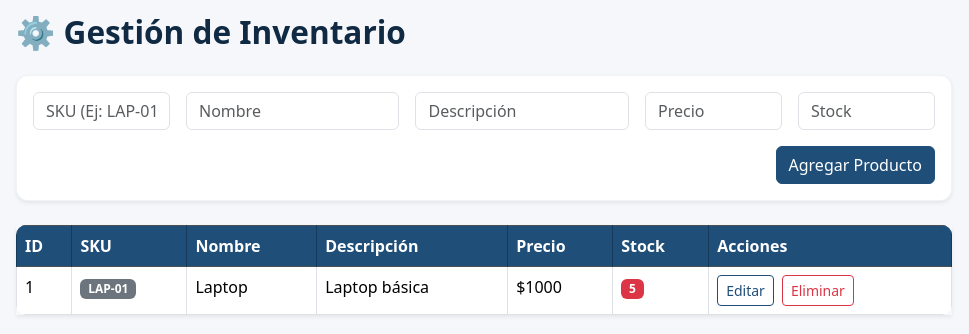
Gestion › entra en modo edición al hacer click en Editar
Check: the text "Laptop" is shown, box [187,266,317,314]
Click the button "Editar" at coordinates (746, 290), box [717,275,774,306]
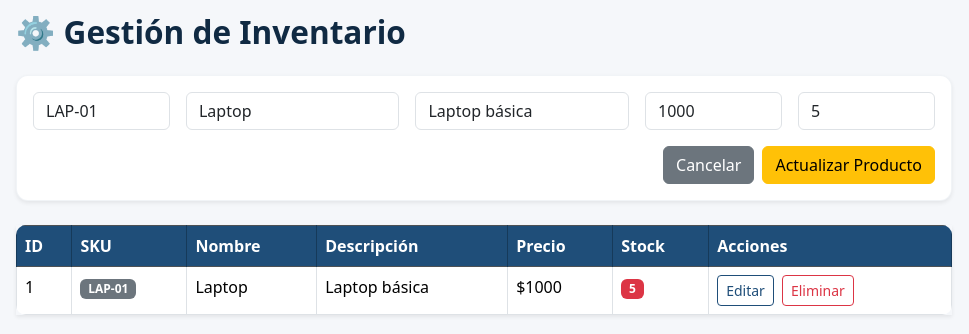
Check: the button "Actualizar Producto" is shown, box [762,146,935,184]
Check: the button "Cancelar" is shown, box [663,146,754,184]
